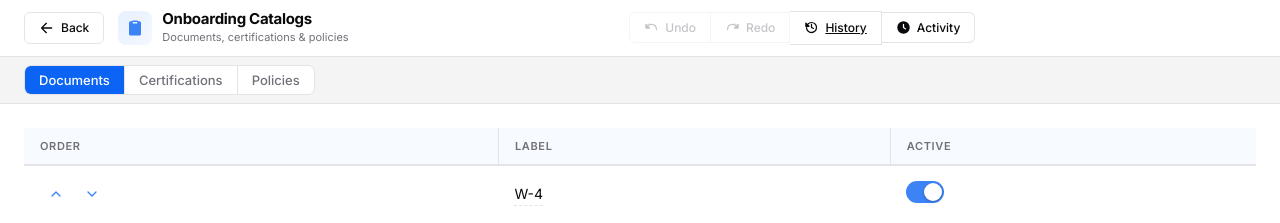
Test case: switching to Policies shows policy rows
Expected: the text "W-4" is shown, [514,182,543,206]
Click the tab "Policies" at (276, 80), box [238,66,314,94]
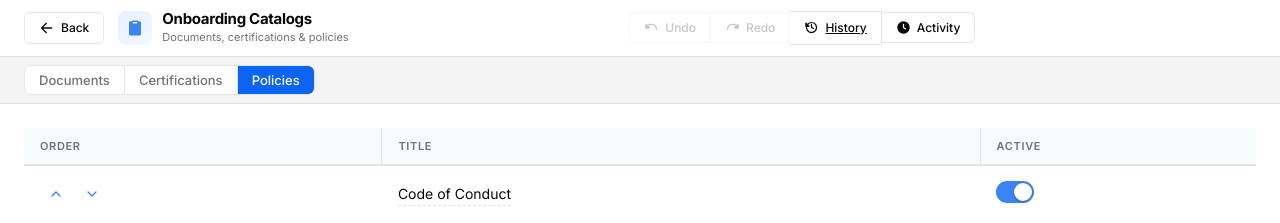
Expected: the text "Code of Conduct" is shown, [398,182,511,206]
